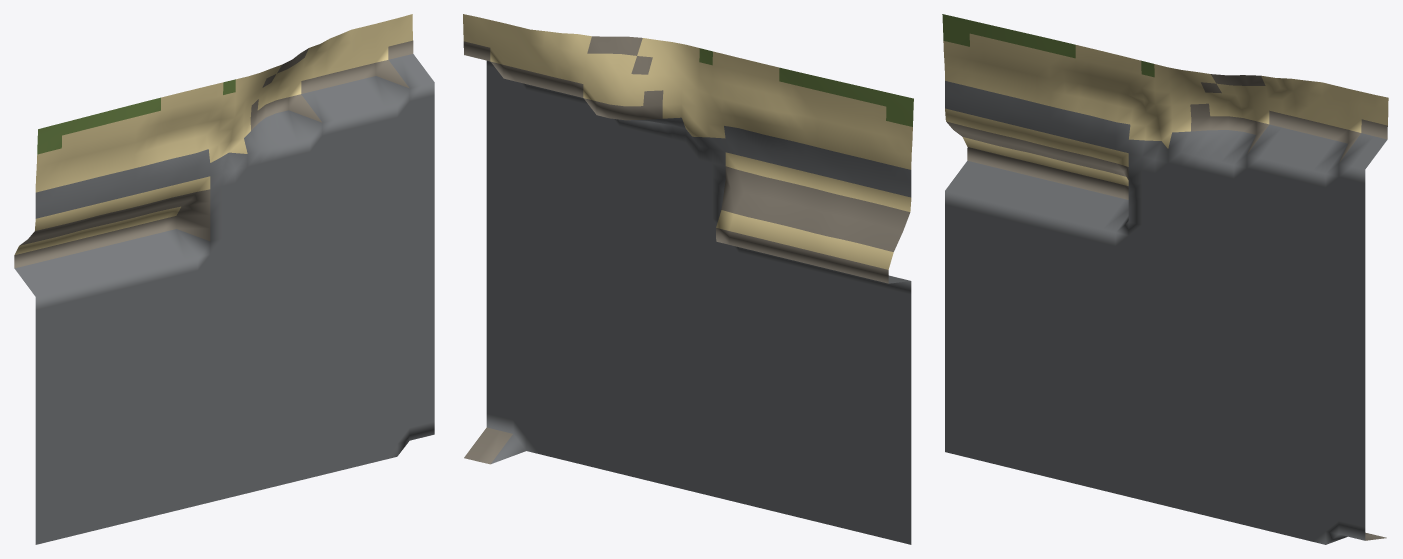
The model's file is island_terrain_15_04.obj.
The picture shows the model from 3 angles, left to right: view 1: azimuth 30°, elevation 25°; view 2: azimuth 150°, elevation 25°; view 3: azimuth 330°, elevation 25°; orthographic projection. The views are drawn at different scales.
Parts seen in each view (by area): view 1: island_terrain_15_04; view 2: island_terrain_15_04; view 3: island_terrain_15_04.
Boxes of the visible parts, left/top/right/bottom form: island_terrain_15_04: left=14, top=14, right=434, bottom=544; island_terrain_15_04: left=463, top=14, right=913, bottom=544; island_terrain_15_04: left=942, top=14, right=1388, bottom=544.
Bounding box in the file's own units: 256 × 256 × 27.2.
